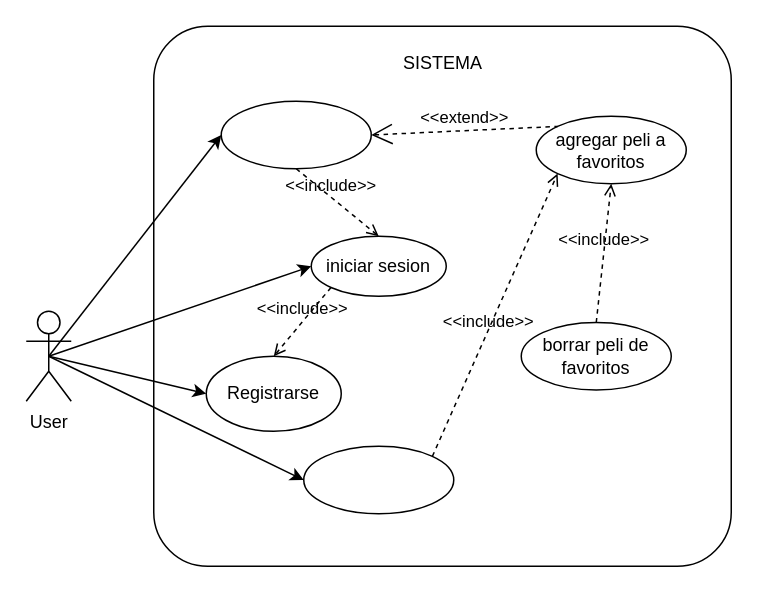
Image size: 758x593. Some labels were removed from this diagram. Here are the shapes that lost their labels. From the top down, the box of each, then its label:
(220, 100, 371, 169): ver peliculas
(302, 445, 454, 514): ver favoritos
